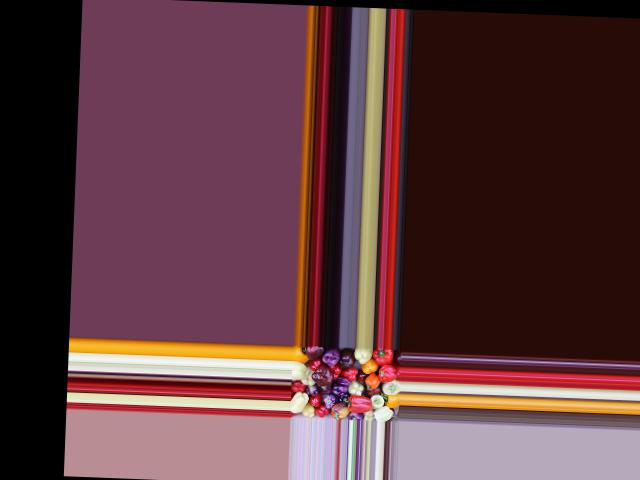bell_pepper: (380, 380, 400, 393)
